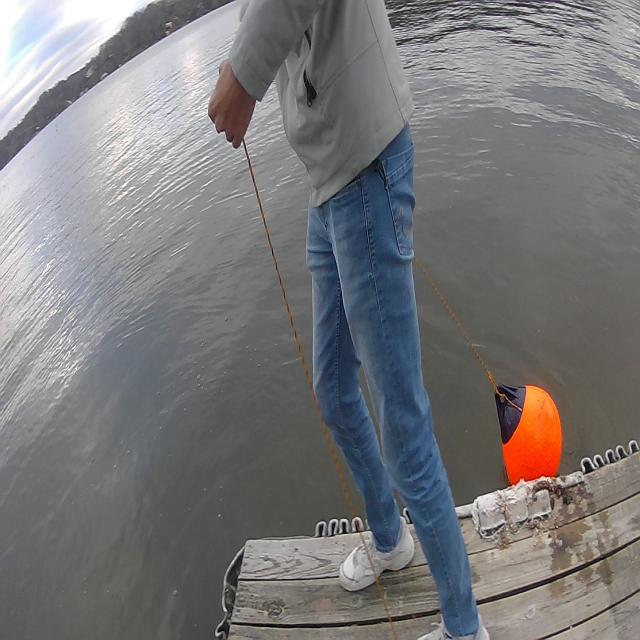Buoy: (487, 372, 567, 494)
